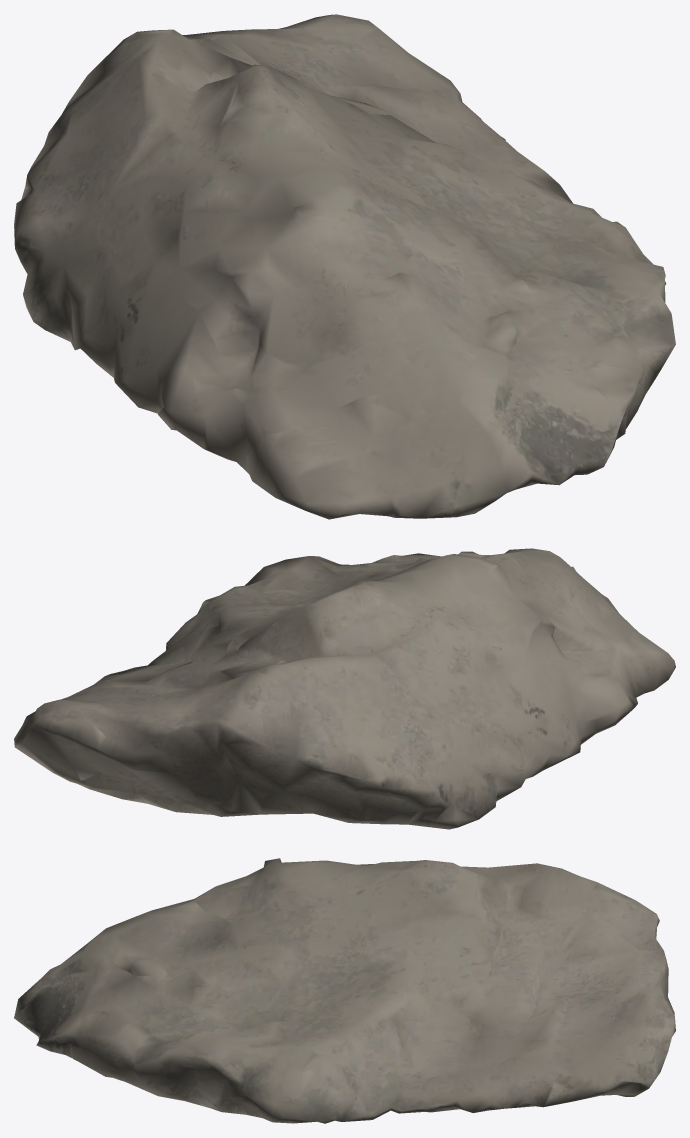
Rendered from moon_rock_04.glb.
3 renders of one model, top to bottom at view 1: azimuth 30°, elevation 25°; view 2: azimuth 150°, elevation 25°; view 3: azimuth 270°, elevation 25°, orthographic. The views are drawn at different scales.
Parts seen in each view (by area): view 1: moon_rock_04_LOD0; view 2: moon_rock_04_LOD0; view 3: moon_rock_04_LOD0.
Boxes of the visible parts, left/top/right/bottom form: moon_rock_04_LOD0: left=14, top=14, right=675, bottom=519; moon_rock_04_LOD0: left=14, top=548, right=675, bottom=829; moon_rock_04_LOD0: left=14, top=858, right=675, bottom=1123.
Bounding box in the file's own units: 0.1198 × 0.0538 × 0.1738.
Materials: 1 (1 with a texture image).
